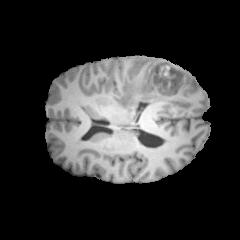glioma: (112, 59, 196, 112)
